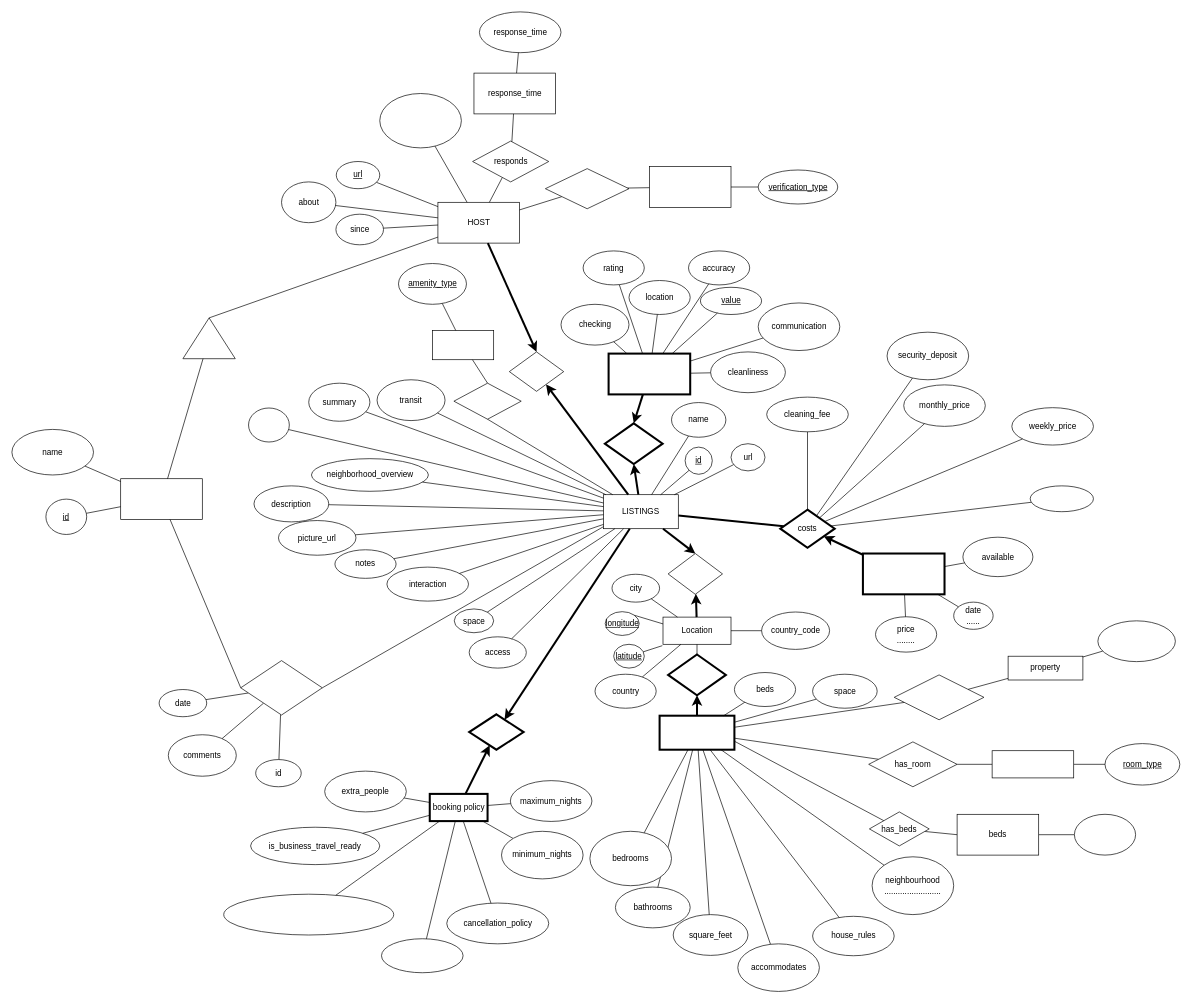
The diagram is 1192 pixels wide and 1004 high, and some of its shapes have lost their labels. The shapes that lost their labels are listed below. From the top down, each one's centre as x and y in pixels, then its label:
At pixel 420 120: "thumbnail_url".
At pixel 587 188: "has".
At pixel 690 186: "verifications".
At pixel 208 338: "ISA".
At pixel 463 345: "Amenities".
At pixel 536 371: "hosts".
At pixel 649 373: "Review_scores".
At pixel 487 400: "has amenities".
At pixel 268 424: "place".
At pixel 633 443: "review scores".
At pixel 161 499: "user".
At pixel 1061 498: "daily_price".
At pixel 694 573: "locates in".
At pixel 903 573: "CALENDAR".
At pixel 1136 641: "property_type".
At pixel 281 687: "reviews".
At pixel 697 674: "in house".
At pixel 939 697: "has_property".
At pixel 496 731: "requires".
At pixel 696 732: "House".
At pixel 1032 764: "room".
At pixel 1105 834: "bed_type".
At pixel 308 914: "require_guest_profile_picture".
At pixel 422 955: "guests_included".
